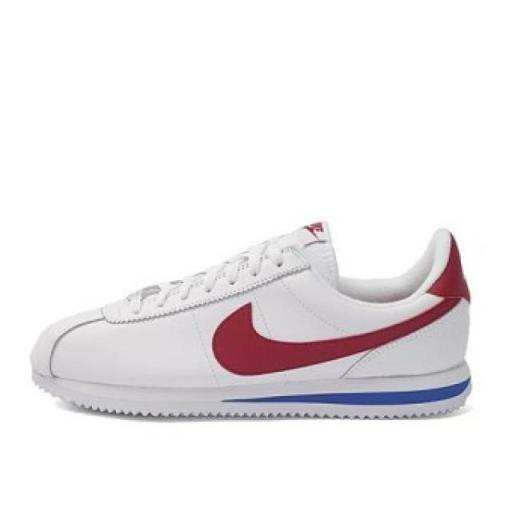Nike: (209, 295, 461, 378)
